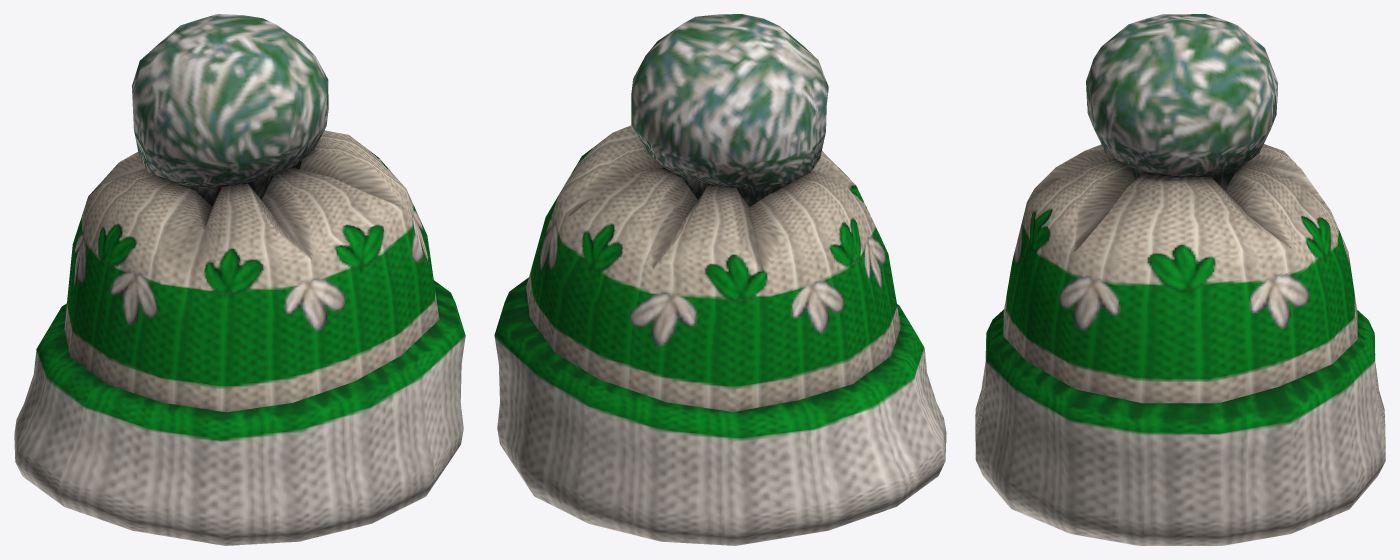
The model's file is hat_winter.fbx.
3 renders of one model, left to right at view 1: azimuth 30°, elevation 25°; view 2: azimuth 150°, elevation 25°; view 3: azimuth 270°, elevation 25°, orthographic.
Visible parts, largest first — view 1: hat_WinterCap002; view 2: hat_WinterCap002; view 3: hat_WinterCap002.
Part boxes in pixels (x1=…): hat_WinterCap002: x1=14, y1=14, x2=465, y2=545; hat_WinterCap002: x1=494, y1=14, x2=946, y2=545; hat_WinterCap002: x1=975, y1=14, x2=1385, y2=545.
Bounding box in the file's own units: 1.48 × 1.53 × 1.32.
